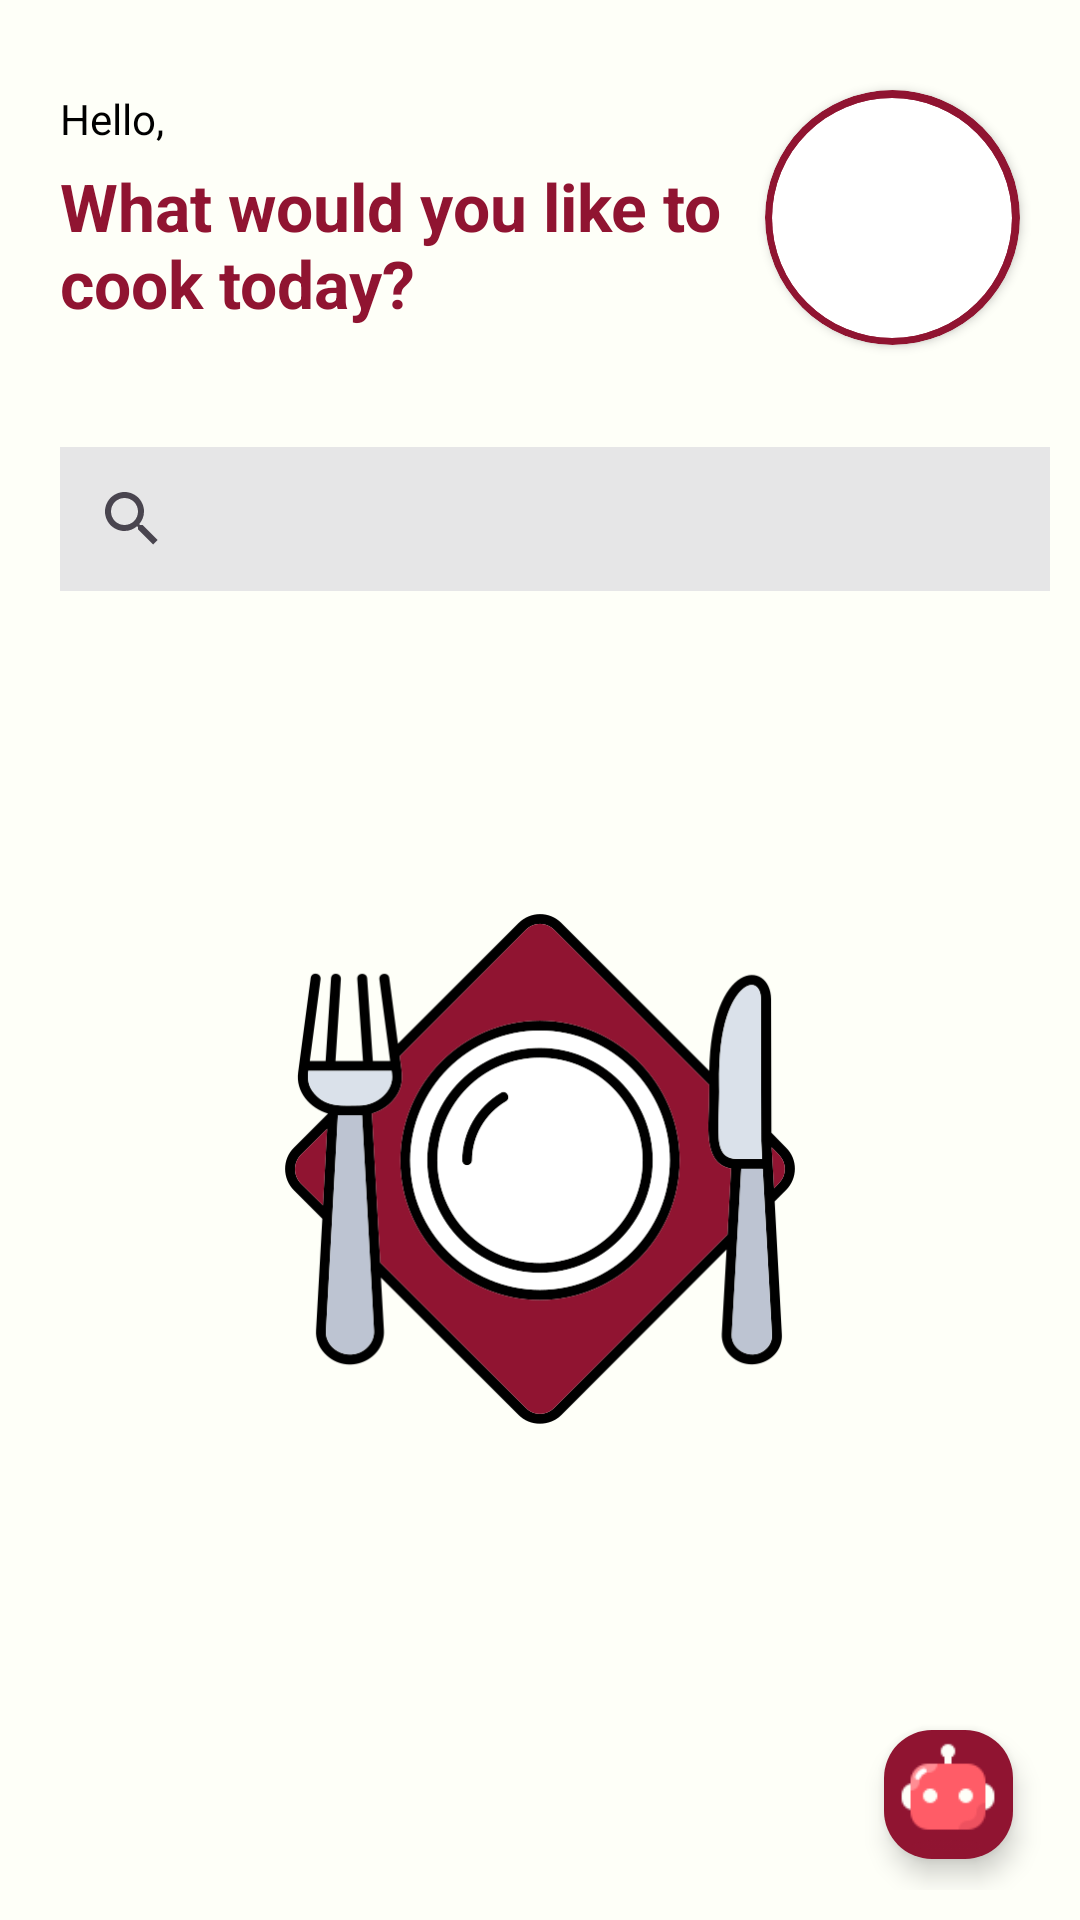

Screen size 1080x1920. Icon name, then its center in pixels as point (x, y):
chat bot: point (949, 1798)
